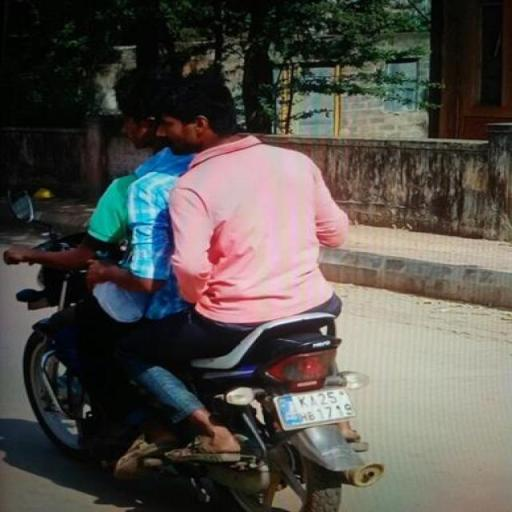tripple riding: (4, 60, 400, 306)
